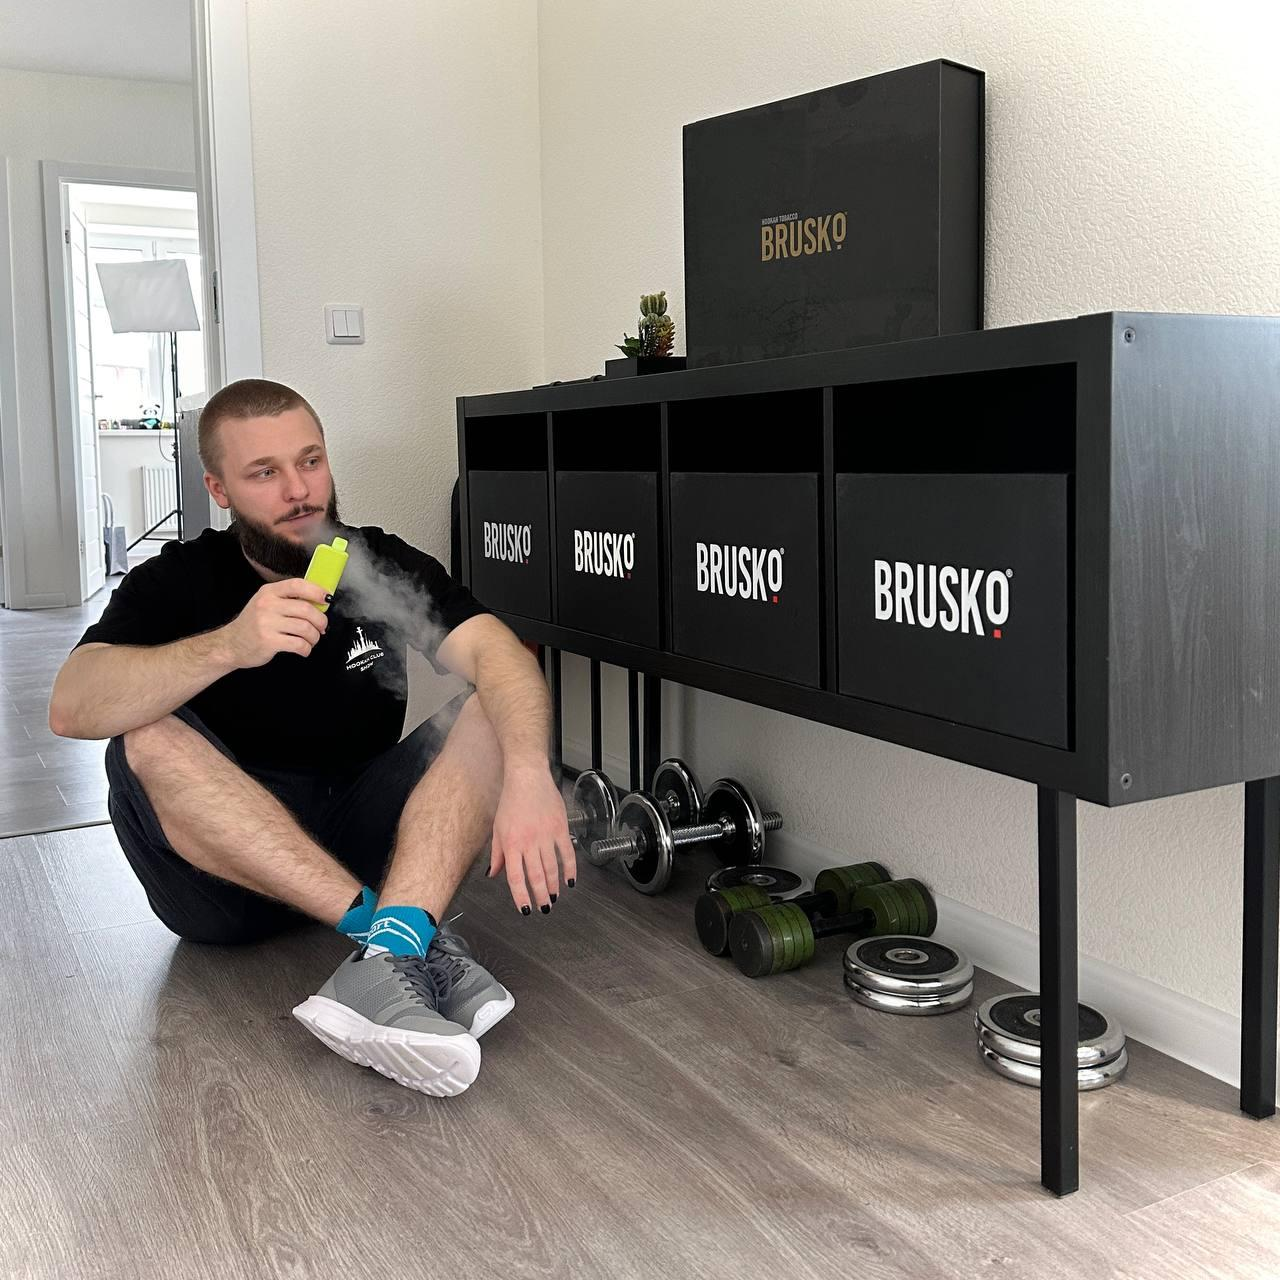Vape: (297, 536, 349, 613)
